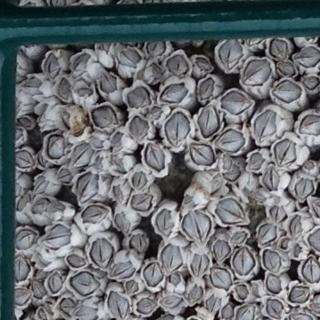Barnacle: (195, 54, 221, 99), (241, 61, 274, 90), (165, 110, 190, 146), (185, 209, 210, 243), (125, 85, 155, 113), (221, 91, 252, 118), (214, 198, 246, 224), (71, 271, 101, 298), (76, 171, 99, 206), (42, 224, 72, 250), (270, 80, 301, 105), (89, 238, 115, 267), (196, 105, 220, 136), (273, 142, 297, 172), (163, 244, 185, 276), (189, 144, 217, 169), (233, 247, 255, 277), (221, 38, 242, 69), (107, 291, 129, 320), (145, 143, 165, 173), (256, 110, 276, 140), (218, 129, 244, 152), (129, 192, 153, 216), (208, 266, 231, 291), (9, 149, 36, 170), (81, 205, 109, 225), (13, 229, 37, 252), (297, 113, 320, 137), (72, 141, 93, 167), (47, 131, 67, 158), (162, 82, 186, 104), (303, 254, 320, 285), (168, 52, 189, 77), (72, 53, 94, 76), (190, 251, 208, 279), (144, 261, 163, 287), (294, 47, 320, 66), (13, 256, 31, 283), (261, 248, 282, 271), (129, 115, 150, 138), (91, 106, 114, 127), (257, 225, 279, 246), (155, 210, 172, 236), (264, 297, 285, 318), (130, 232, 149, 255), (44, 53, 60, 80), (115, 210, 132, 235), (58, 295, 77, 317), (112, 260, 134, 279), (288, 287, 310, 305), (269, 203, 287, 224), (34, 173, 52, 194), (118, 49, 139, 67), (55, 79, 72, 101), (263, 170, 279, 193), (31, 197, 50, 216), (110, 156, 128, 176), (271, 39, 289, 59), (137, 297, 158, 314), (64, 252, 86, 268), (215, 240, 231, 262), (297, 179, 315, 198), (56, 166, 74, 185), (99, 74, 116, 94), (131, 170, 147, 191), (48, 270, 63, 292), (204, 295, 222, 313), (264, 275, 282, 293), (248, 151, 265, 170), (110, 131, 127, 150), (59, 108, 76, 127), (109, 183, 125, 203), (290, 215, 305, 236), (161, 294, 183, 308), (29, 281, 46, 299), (15, 192, 32, 210), (236, 305, 256, 320), (78, 306, 99, 320), (187, 286, 204, 303), (13, 288, 29, 306), (149, 60, 165, 78), (231, 228, 248, 243), (209, 174, 224, 191), (220, 304, 235, 320), (303, 74, 319, 89), (228, 165, 243, 179), (236, 286, 250, 300), (125, 280, 139, 294), (278, 61, 292, 75), (95, 153, 106, 170), (51, 203, 65, 216), (152, 105, 166, 118), (300, 156, 315, 168), (36, 308, 50, 320), (35, 266, 47, 280), (182, 193, 195, 205), (170, 277, 182, 286), (313, 300, 320, 314), (188, 133, 189, 134), (264, 111, 265, 112), (80, 77, 81, 78), (173, 75, 174, 76)
